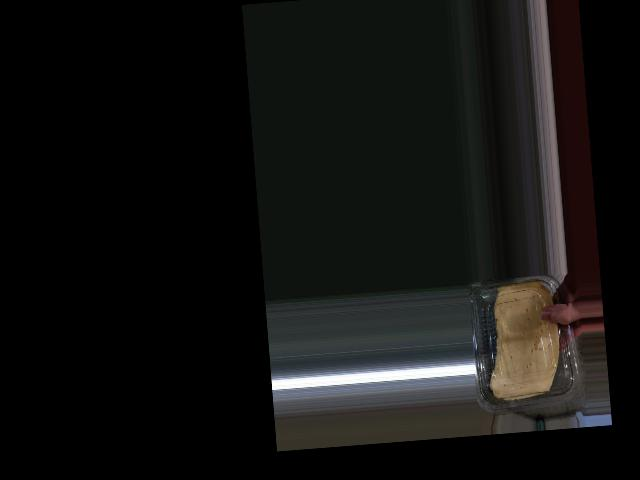cheese: (467, 272, 570, 415)
